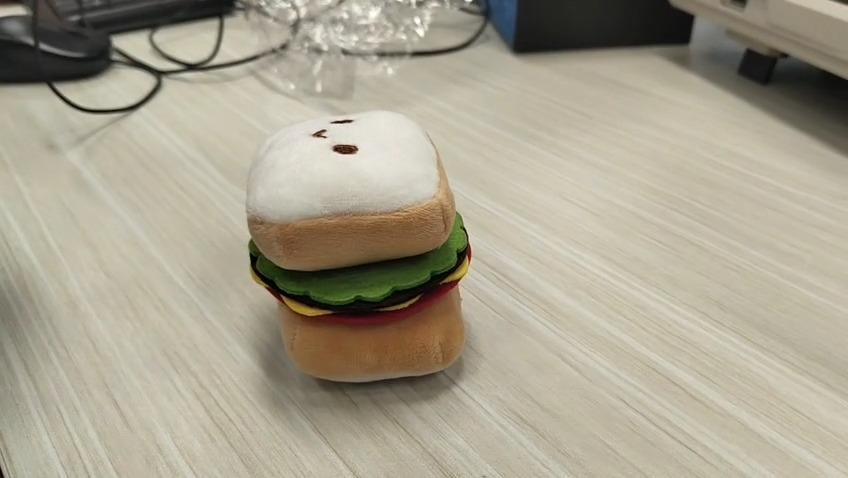objects: (245, 106, 474, 383)
